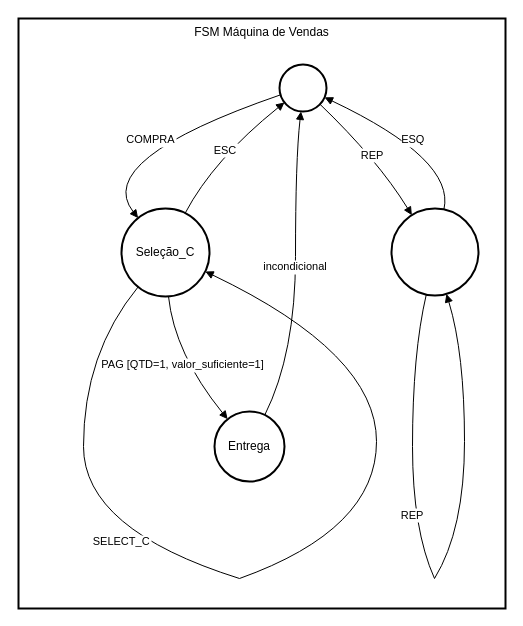
Image size: 523x626. Some labels were removed from this diagram. Here are the shapes that lost their labels. From the top down, the centre of each, then its label:
At [302,87]: "Wait".
At [434,251]: "Seleção_R".
